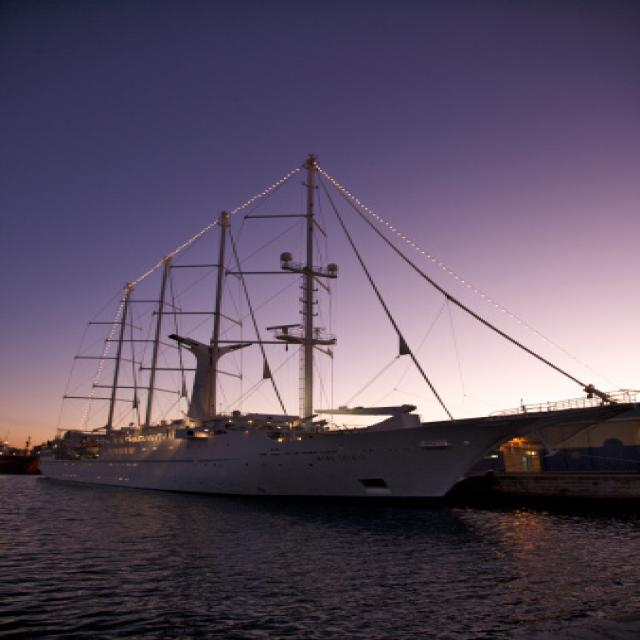Boat: (57, 356, 528, 522)
